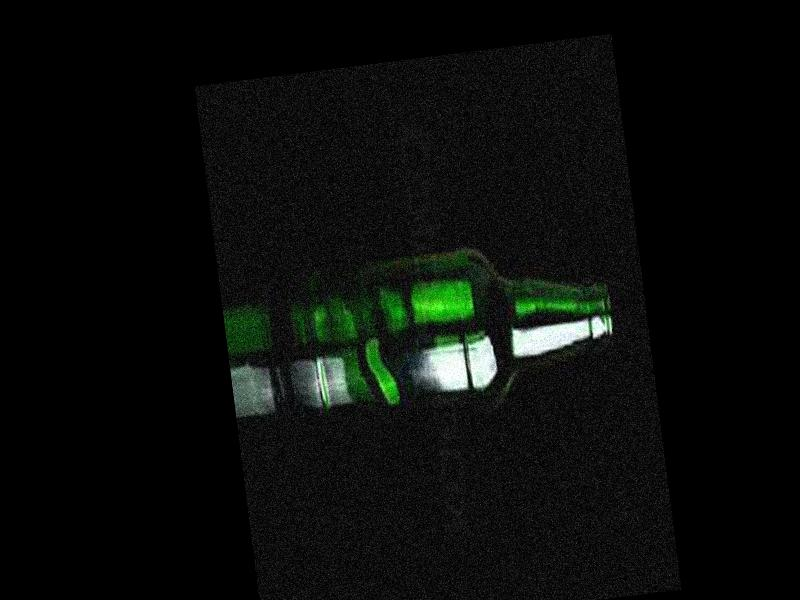Beer: (302, 229, 618, 410)
